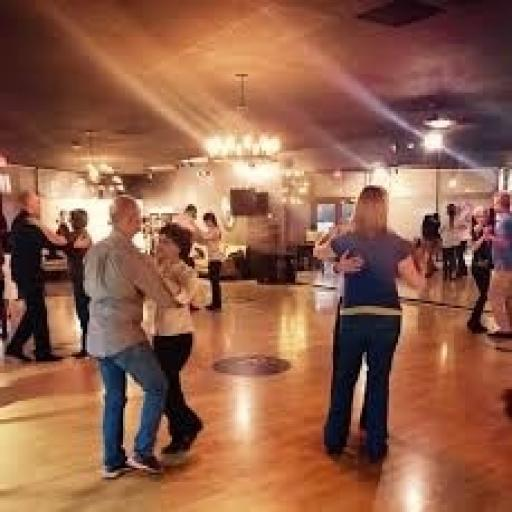dancing: (311, 183, 434, 466), (78, 192, 195, 482)
